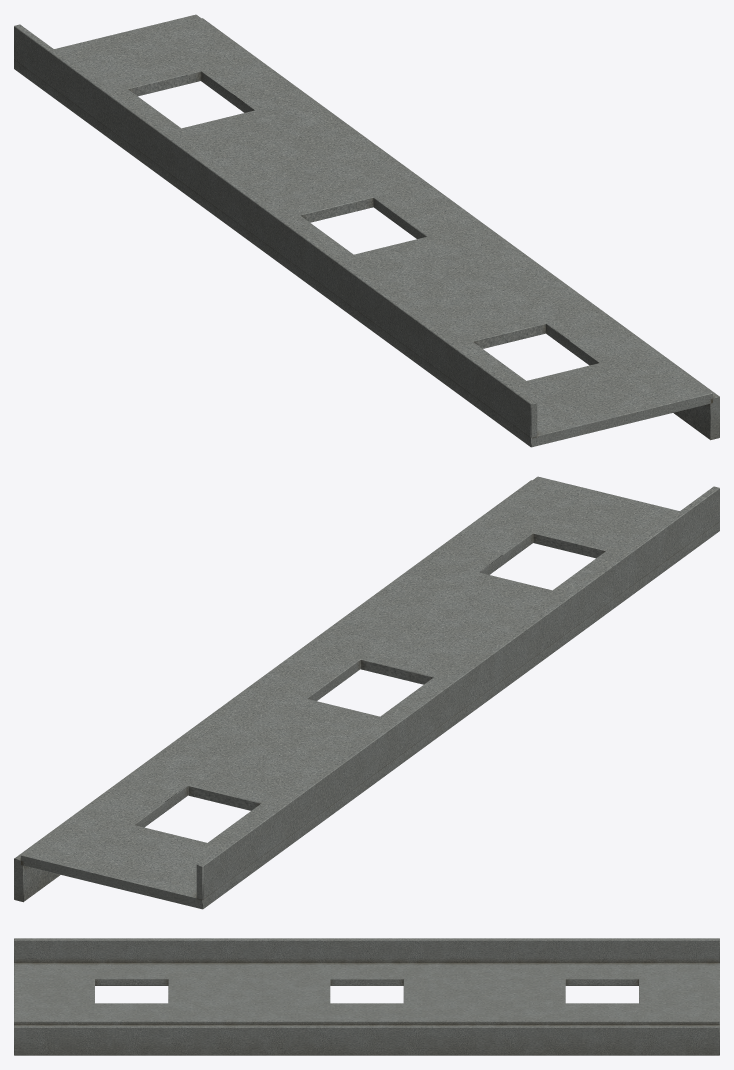
Rendered from bancada_banheiro_sujo_realista.glb.
3 views of the same model, one above another, from view 1: azimuth 30°, elevation 25°; view 2: azimuth 150°, elevation 25°; view 3: azimuth 270°, elevation 25° (orthographic). The views are drawn at different scales.
Parts seen in each view (by area): view 1: Bancada_banheiro; view 2: Bancada_banheiro; view 3: Bancada_banheiro.
Part boxes in pixels (x1,y1,x2,y2): Bancada_banheiro: [14, 14, 719, 447]; Bancada_banheiro: [14, 476, 719, 909]; Bancada_banheiro: [14, 938, 719, 1055].
Bounding box in the file's own units: 0.57 × 0.23 × 2.7.
Materials: 1 (1 with a texture image).
